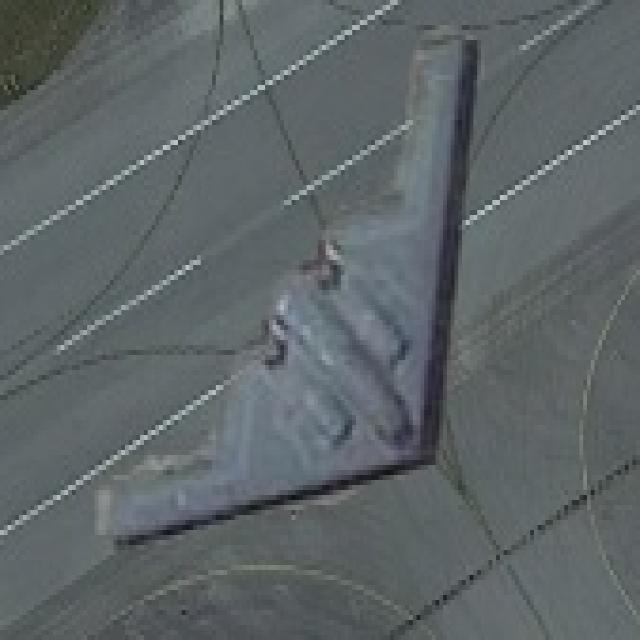B-2_TopDown: (87, 20, 485, 545)
